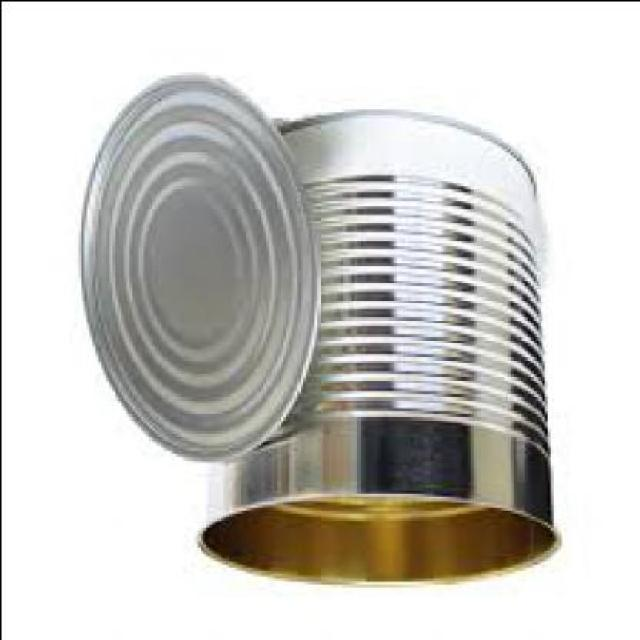METAL: (191, 117, 557, 586), (76, 76, 316, 461)
